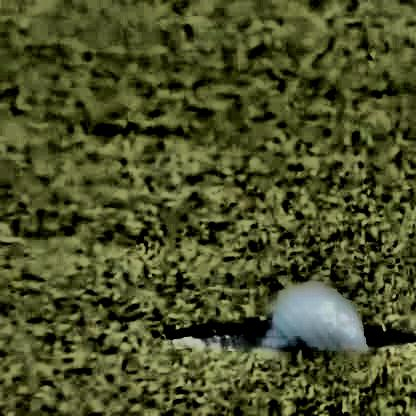golfball: (260, 298, 368, 368)
